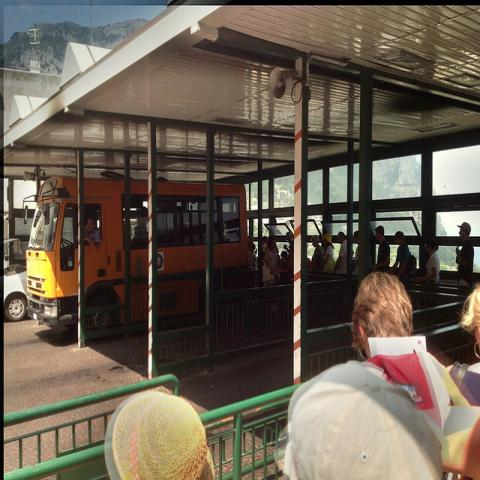bus: (23, 176, 246, 329)
car: (4, 262, 29, 322)
